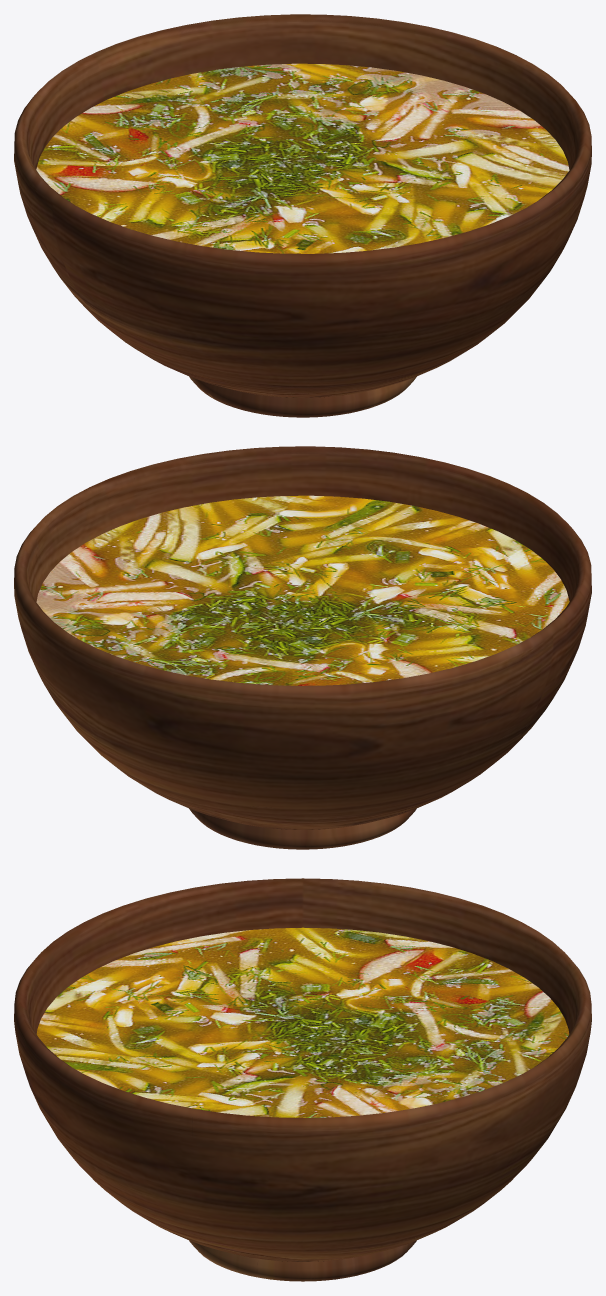
File: Soup.fbx
3 views of the same model, one above another, from view 1: azimuth 30°, elevation 25°; view 2: azimuth 150°, elevation 25°; view 3: azimuth 270°, elevation 25° (orthographic).
Parts seen in each view (by area): view 1: T_Bowl_Soup, T_Bowl_Soup.001; view 2: T_Bowl_Soup, T_Bowl_Soup.001; view 3: T_Bowl_Soup, T_Bowl_Soup.001.
Part boxes in pixels (left/top/right/bottom): T_Bowl_Soup: left=14, top=14, right=591, bottom=417; T_Bowl_Soup.001: left=36, top=63, right=569, bottom=253; T_Bowl_Soup: left=14, top=446, right=591, bottom=849; T_Bowl_Soup.001: left=36, top=495, right=569, bottom=685; T_Bowl_Soup: left=14, top=878, right=591, bottom=1281; T_Bowl_Soup.001: left=36, top=927, right=569, bottom=1117.
Bounding box in the file's own units: 64.06 × 29.86 × 64.06.
